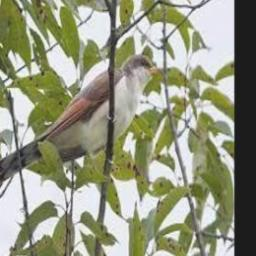Cuckoo: (0, 54, 167, 189)
